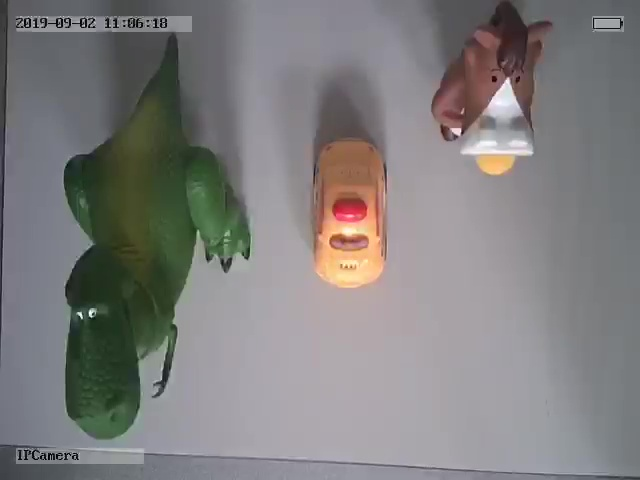car: (311, 134, 389, 287)
horse: (432, 2, 553, 175)
rex: (61, 39, 251, 442)
